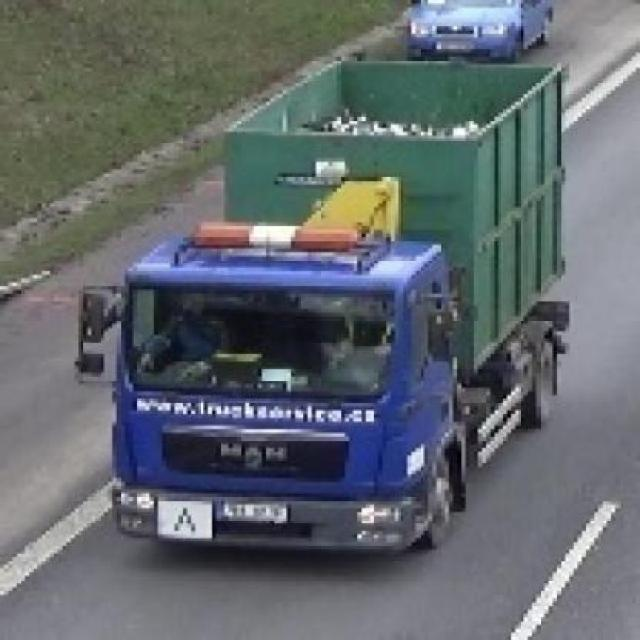truck: (92, 39, 582, 556)
